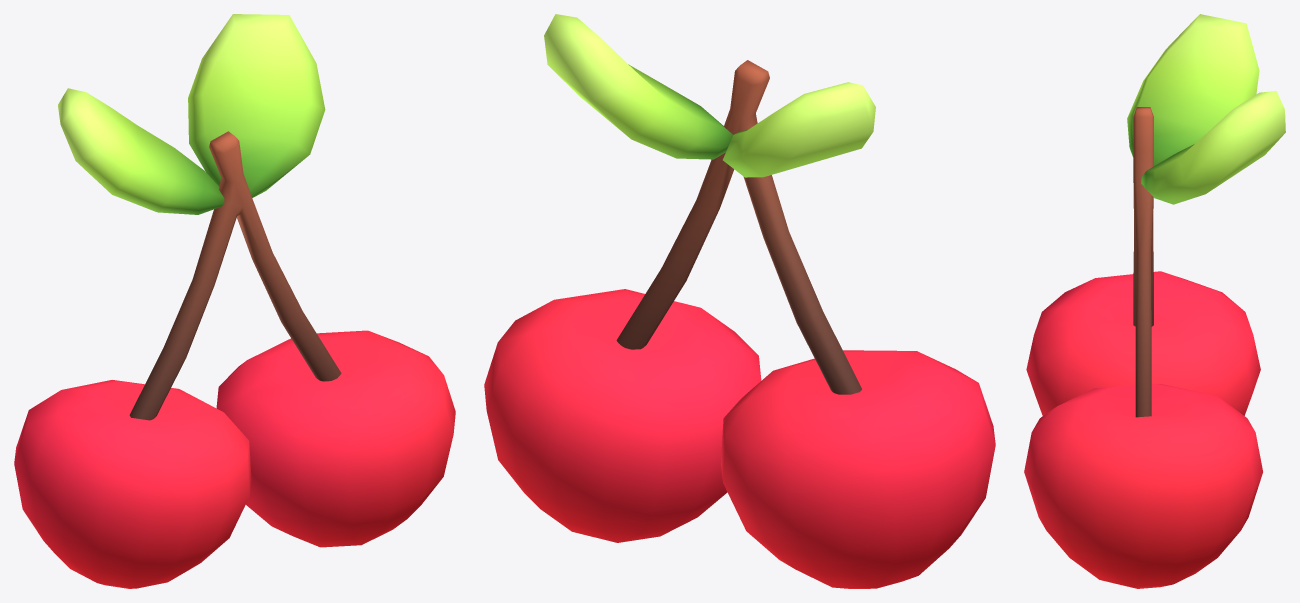
The model's file is berries_001.glb.
The picture shows the model from 3 angles, left to right: view 1: azimuth 30°, elevation 25°; view 2: azimuth 150°, elevation 25°; view 3: azimuth 270°, elevation 25°; orthographic projection. The views are drawn at different scales.
Parts seen in each view (by area): view 1: berries_001; view 2: berries_001; view 3: berries_001.
Part boxes in pixels (x1,y1,x2,y2): berries_001: [14, 14, 455, 588]; berries_001: [484, 14, 995, 588]; berries_001: [1024, 14, 1285, 588].
Bounding box in the file's own units: 1.3 × 1.46 × 0.7341.
Materials: 1 (1 with a texture image).
